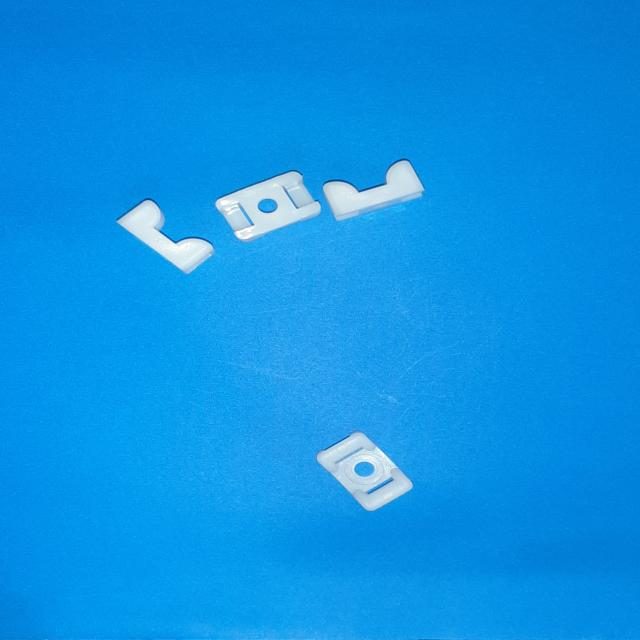false_1: (215, 171, 320, 241)
false_2: (117, 199, 215, 274), (323, 160, 423, 221)
true: (317, 431, 412, 511)
true_center: (353, 462, 375, 477)
